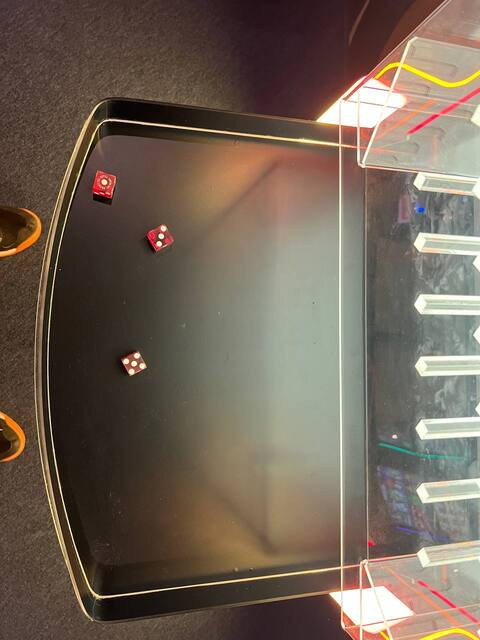five: (117, 346, 152, 377)
one: (89, 167, 119, 196)
three: (144, 222, 176, 255)
